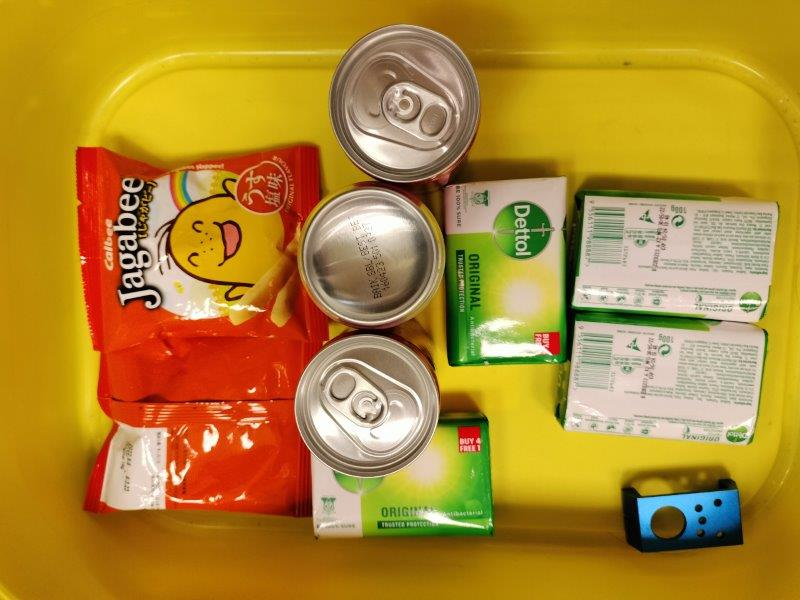Coke: (331, 26, 478, 179), (296, 336, 437, 476), (302, 189, 437, 327)
Dettol: (575, 197, 779, 326), (556, 321, 765, 442), (446, 179, 568, 362), (313, 419, 491, 538)
Jagabee: (76, 146, 327, 351), (82, 349, 315, 514)
